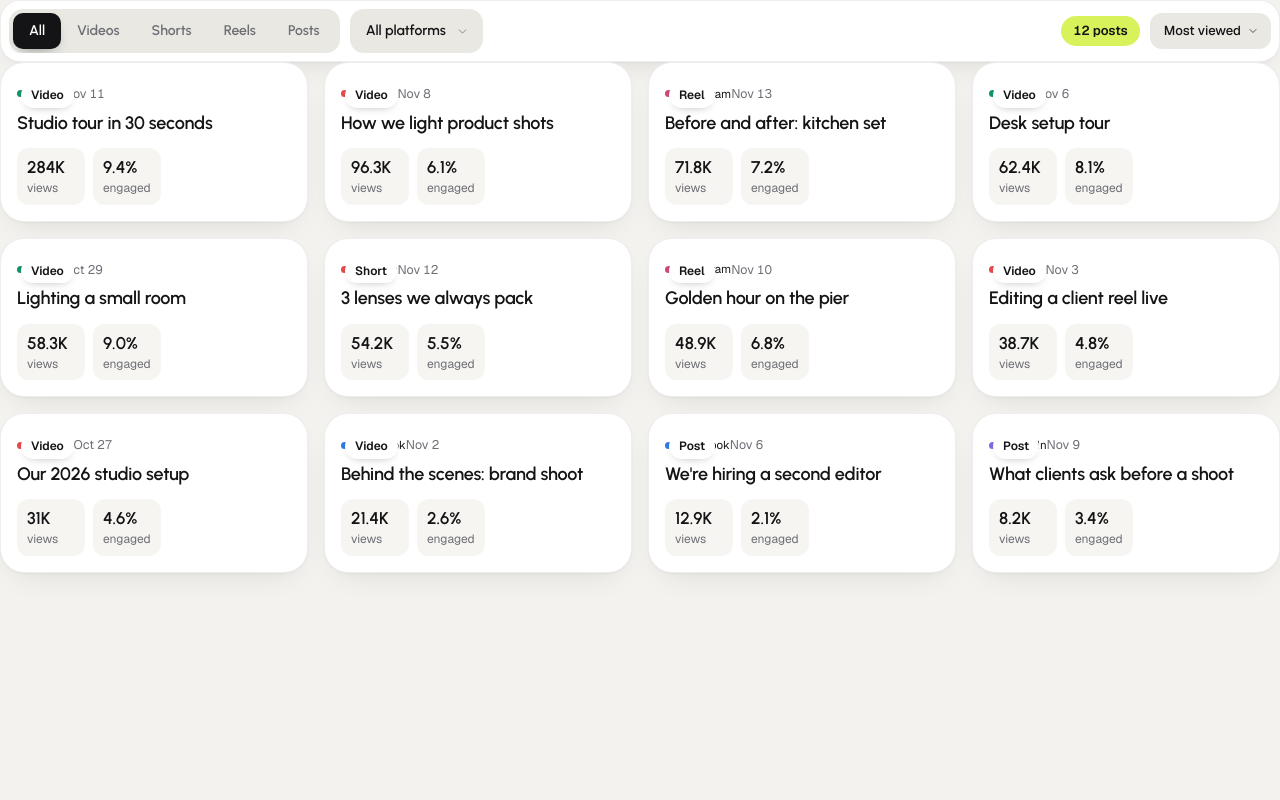
Test: ContentLibrary › opens the post sheet and records it in the URL
Step 1. Click the button "Studio tour in 30 seconds" → (47, 95), box [0,62,308,222]
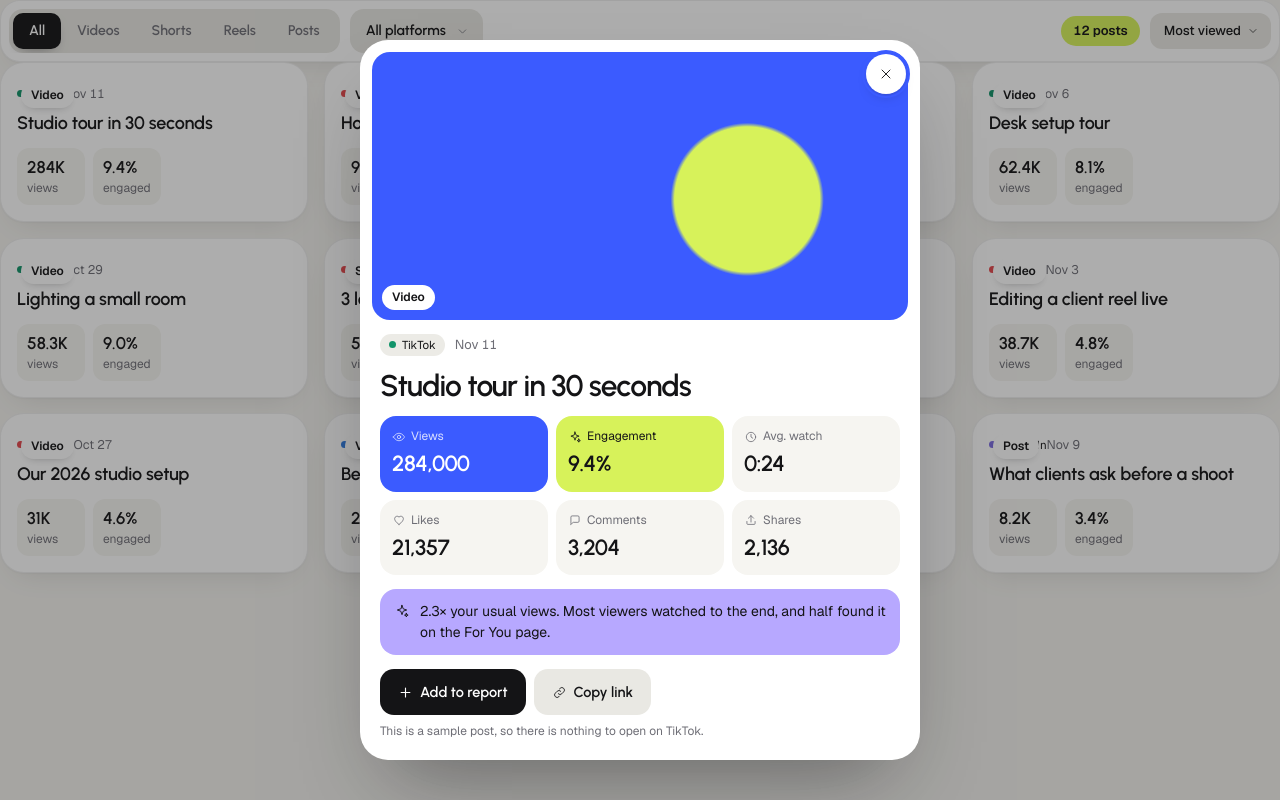
Expected: the text "284,000" is shown, [392,450,470,477]
